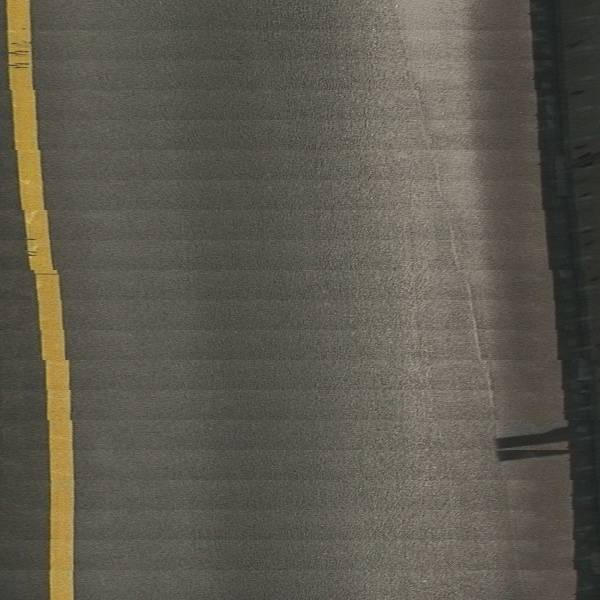road_damage: (394, 6, 495, 411)
